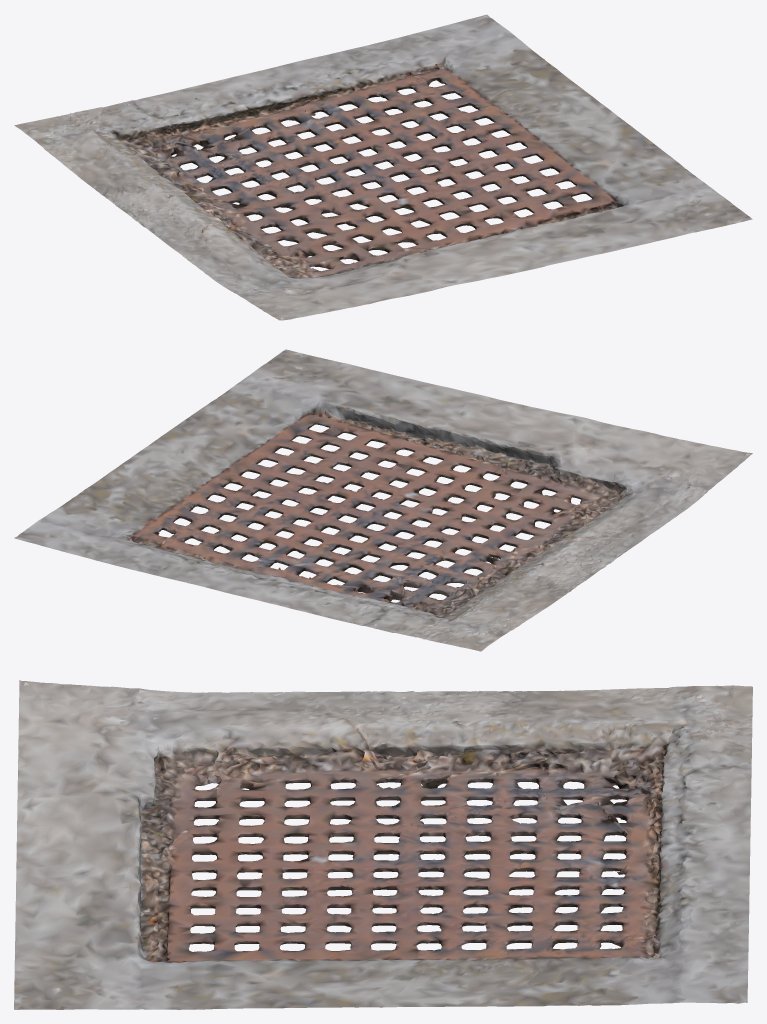
File: mrizka.obj
3 renders of one model, top to bottom at view 1: azimuth 30°, elevation 25°; view 2: azimuth 150°, elevation 25°; view 3: azimuth 270°, elevation 25°, orthographic. The views are drawn at different scales.
Visible parts, largest first — view 1: default; view 2: default; view 3: default.
Boxes of the visible parts, x1,y1,x2,y2 form: default: [14, 14, 752, 320]; default: [14, 349, 752, 651]; default: [14, 680, 752, 1009].
Bounding box in the file's own units: 20.54 × 1.07 × 20.35.
